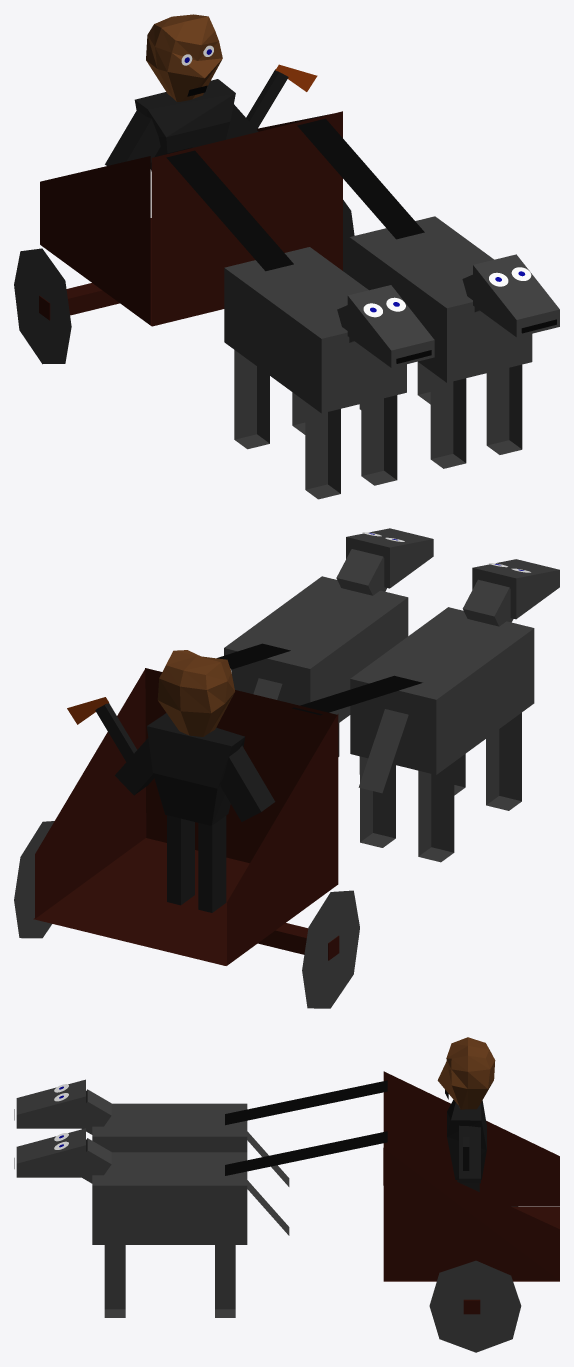
The model's file is lightchariot2.obj.
The picture shows the model from 3 angles, top to bottom: view 1: azimuth 30°, elevation 25°; view 2: azimuth 150°, elevation 25°; view 3: azimuth 270°, elevation 25°; orthographic projection. The views are drawn at different scales.
Parts seen in each view (by area): view 1: Plane.005_Plane.006, Cube.015_Cube.017, Cube.006_Cube.009, Plane.003, Plane.007_Plane.008, Cube, Cube.001, Cube.021_Cube.023, Cube.014_Cube.016, Plane.013_Plane.014, Plane.012_Plane.013, Cube.012_Cube.014 (+7 smaller); view 2: Cube.015_Cube.017, Cube.006_Cube.009, Plane.003, Plane.002, Plane.004, Plane.005_Plane.006, Cube.001, Cube, Plane.007_Plane.008, Cube.016_Cube.018, Cube.019_Cube.021, Cube.021_Cube.023 (+14 smaller); view 3: Plane.004, Cube.006_Cube.009, Plane.003, Cube.015_Cube.017, Plane.006_Plane.007, Cube, Cube.014_Cube.016, Cube.021_Cube.023, Plane.012_Plane.013, Plane.013_Plane.014, Cube.011_Cube.013, Cube.010_Cube.012 (+6 smaller).
Part boxes in pixels (x1,y1,x2,y2): Plane.005_Plane.006: (151,111,342,326); Cube.015_Cube.017: (224,247,406,413); Cube.006_Cube.009: (349,216,532,382); Plane.003: (40,156,150,325); Plane.007_Plane.008: (14,248,71,364); Cube: (146,14,222,101); Cube.001: (134,79,235,171); Cube.021_Cube.023: (347,285,434,367); Cube.014_Cube.016: (473,254,559,337); Plane.013_Plane.014: (294,115,424,239); Plane.012_Plane.013: (164,147,293,271); Cube.012_Cube.014: (430,371,466,468); Cube.015_Cube.017: (350,607,534,774); Cube.006_Cube.009: (224,576,408,723); Plane.003: (227,714,338,965); Plane.002: (33,838,249,965); Plane.004: (35,669,146,918); Plane.005_Plane.006: (145,668,336,863); Cube.001: (147,713,244,825); Cube: (157,650,234,736); Plane.007_Plane.008: (302,890,359,1008); Cube.016_Cube.018: (418,762,454,862); Cube.019_Cube.021: (486,712,521,810); Cube.021_Cube.023: (472,559,559,619); Plane.004: (383,1148,559,1280); Cube.006_Cube.009: (92,1152,247,1244); Plane.003: (383,1071,559,1206); Cube.015_Cube.017: (92,1103,247,1152); Plane.006_Plane.007: (429,1260,521,1352); Cube: (437,1037,495,1109); Cube.014_Cube.016: (16,1128,85,1177); Cube.021_Cube.023: (16,1079,85,1128); Plane.012_Plane.013: (225,1080,387,1125); Plane.013_Plane.014: (225,1131,387,1175); Cube.011_Cube.013: (104,1245,125,1317); Cube.010_Cube.012: (215,1245,235,1317).
Bounding box in the file's own units: 7.27 × 7.5 × 14.9.
